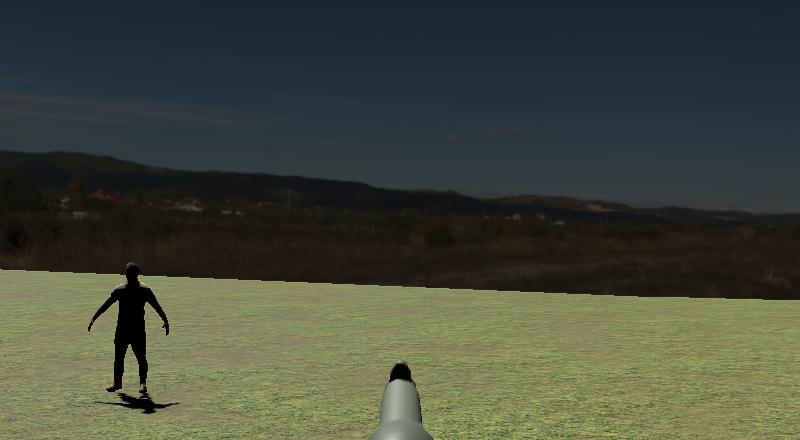Human: (84, 257, 175, 400), (84, 258, 175, 399)
